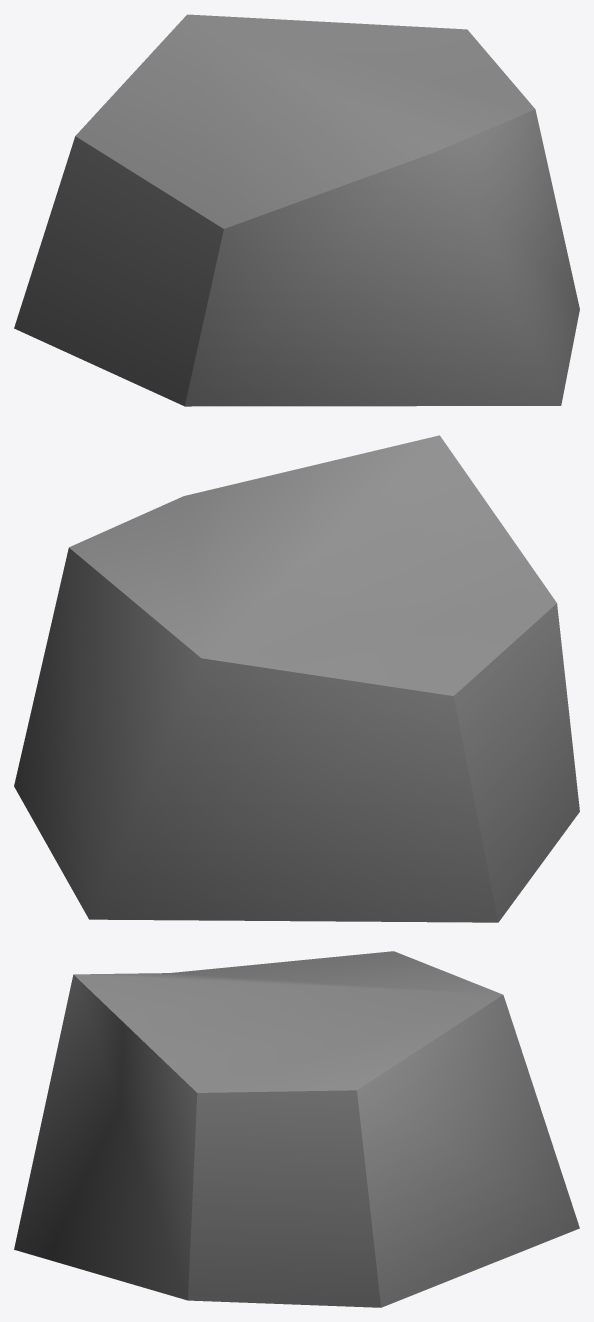
Rendered from inbox-rock.glb.
3 views of the same model, one above another, from view 1: azimuth 30°, elevation 25°; view 2: azimuth 150°, elevation 25°; view 3: azimuth 270°, elevation 25° (orthographic). The views are drawn at different scales.
Visible parts, largest first — view 1: Rock001; view 2: Rock001; view 3: Rock001.
Part boxes in pixels (x1,y1,x2,y2): Rock001: [14, 14, 579, 406]; Rock001: [14, 435, 579, 922]; Rock001: [14, 951, 579, 1307].
Bounding box in the file's own units: 405 × 213 × 468.
1 material, 1 textured.
